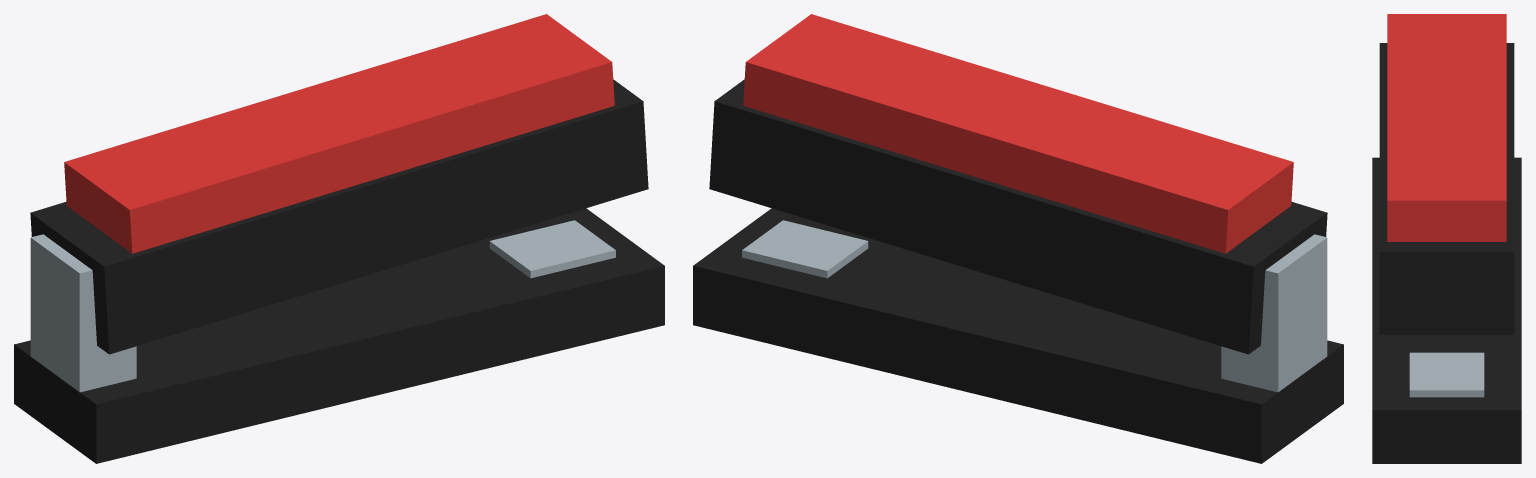
Rendered from haftapparat.glb.
3 renders of one model, left to right at view 1: azimuth 30°, elevation 25°; view 2: azimuth 150°, elevation 25°; view 3: azimuth 270°, elevation 25°, orthographic. The views are drawn at different scales.
Parts seen in each view (by area): view 1: haftapparat; view 2: haftapparat; view 3: haftapparat.
Boxes of the visible parts, x1,y1,x2,y2 form: haftapparat: (14, 14, 664, 463); haftapparat: (693, 14, 1343, 463); haftapparat: (1372, 14, 1521, 463).
Bounding box in the file's own units: 0.4 × 0.1801 × 0.1.
